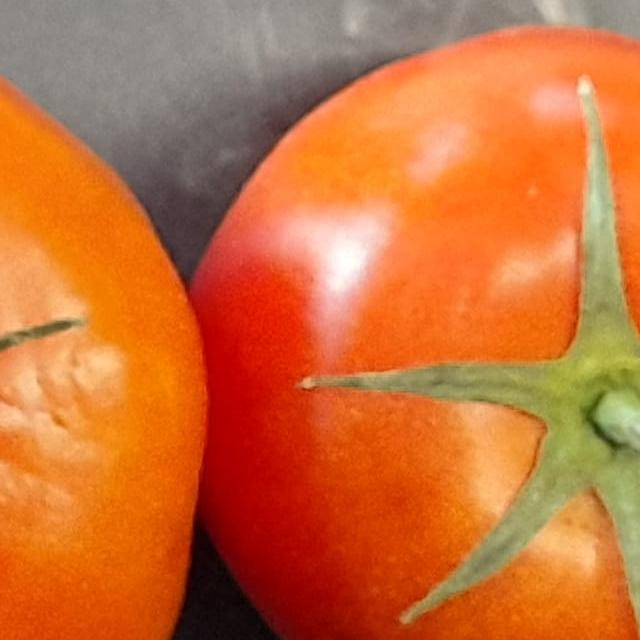tomato: (142, 0, 640, 640), (0, 0, 210, 640)
